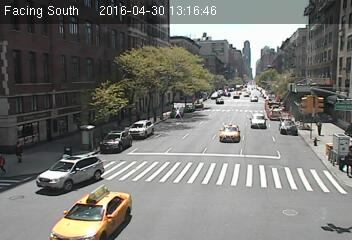neg: (13, 5, 50, 55), (145, 134, 172, 168), (273, 102, 297, 135), (296, 64, 319, 96), (154, 39, 172, 63), (276, 160, 293, 183), (194, 11, 208, 29), (218, 95, 230, 111), (71, 3, 80, 15), (269, 55, 278, 67), (228, 79, 235, 89), (249, 46, 255, 54), (258, 86, 263, 93)
